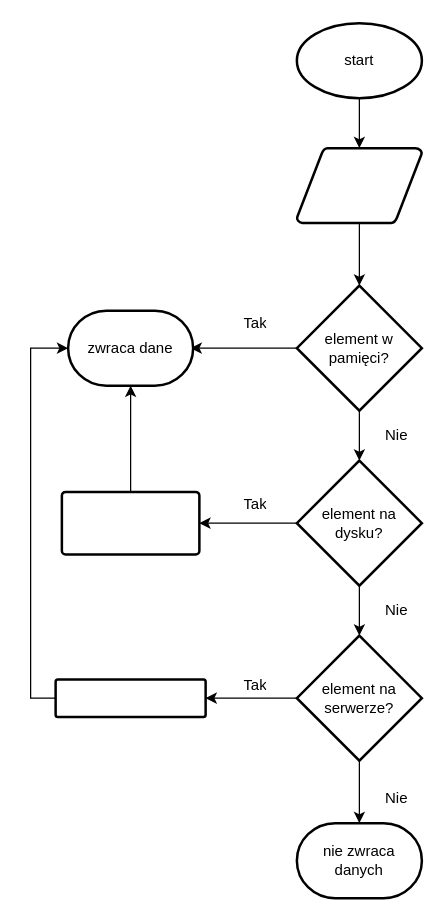
This 445x920 diagram has some shape labels left out. The shapes that lost their labels are listed below. From the top down, each one's centre as x and y in pixels, then its label:
At pixel 358 185: "url_elementu".
At pixel 130 522: "usuwa z dysku dodaje do pamięci".
At pixel 130 698: "dodaje do pamięci".
